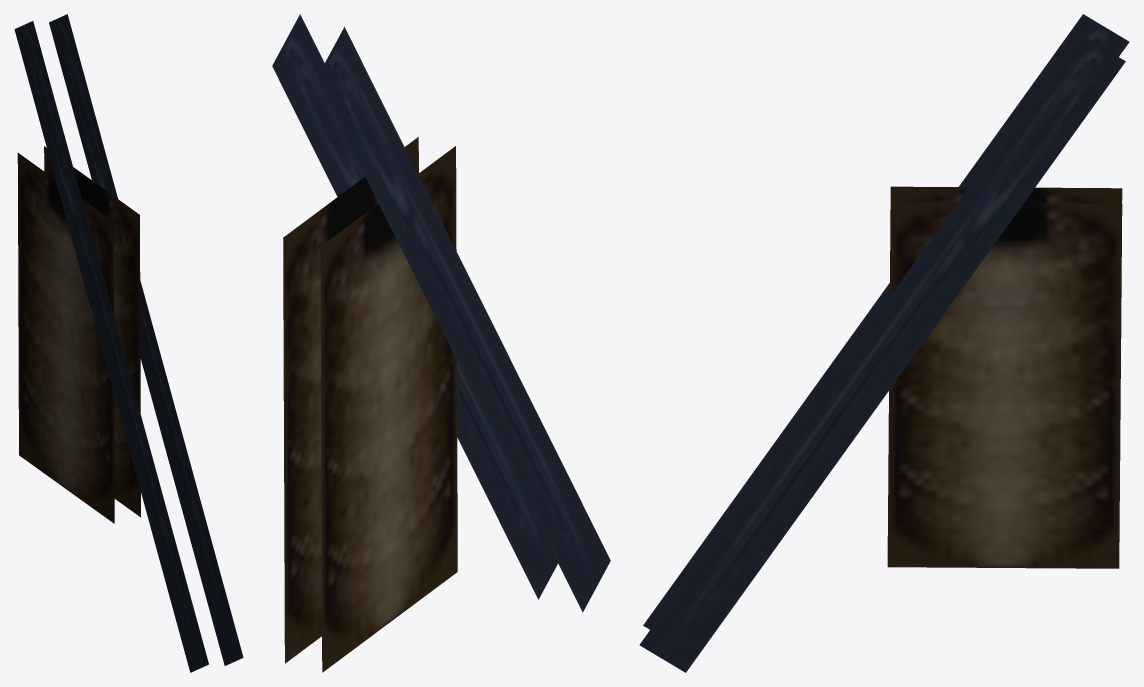
File: sign1_shanty_a_icon_tailor.fbx
The picture shows the model from 3 angles, left to right: view 1: azimuth 30°, elevation 25°; view 2: azimuth 150°, elevation 25°; view 3: azimuth 270°, elevation 25°; orthographic projection. The views are drawn at different scales.
Parts seen in each view (by area): view 1: icon_thread, icon_needle; view 2: icon_thread, icon_needle; view 3: icon_thread, icon_needle.
Part boxes in pixels (x1,y1,x2,y2): icon_thread: (17,146,140,523); icon_needle: (14,14,243,672); icon_thread: (283,137,457,672); icon_needle: (272,14,610,612); icon_thread: (887,186,1122,568); icon_needle: (639,14,1129,672).
Bounding box in the file's own units: 25 × 322 × 222.
1 material, 1 textured.
